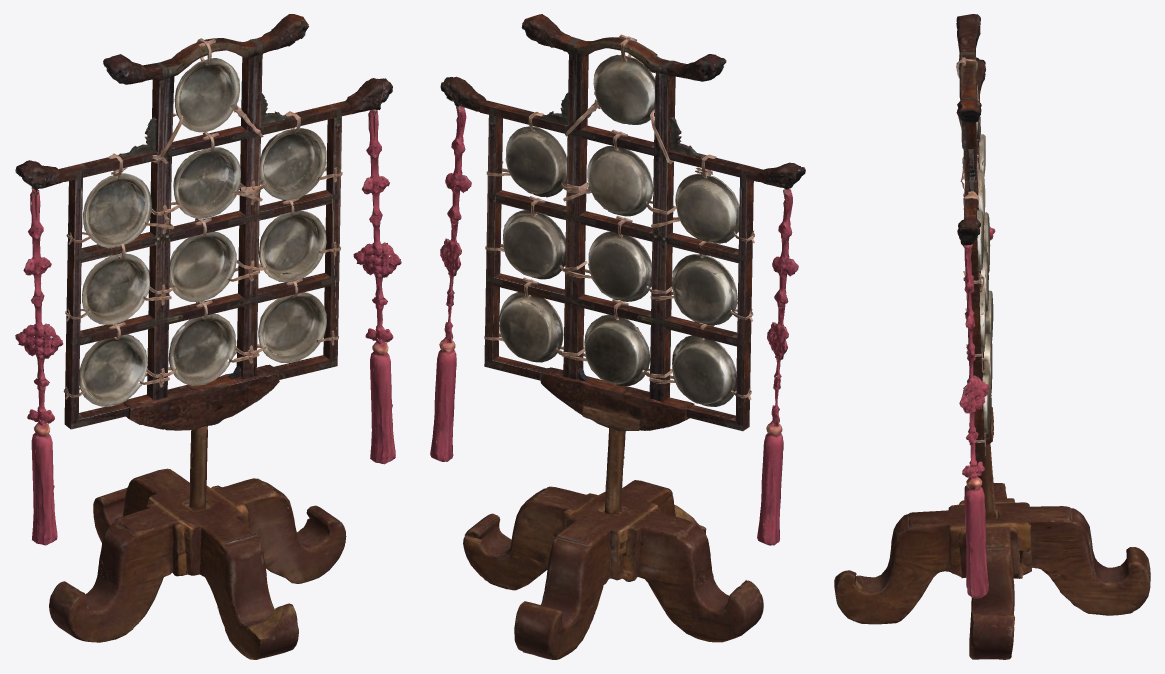
Rendered from unra.glb.
3 views of the same model, side by side, from view 1: azimuth 30°, elevation 25°; view 2: azimuth 150°, elevation 25°; view 3: azimuth 270°, elevation 25° (orthographic). The views are drawn at different scales.
Parts seen in each view (by area): view 1: Jongmyo Jerye_Royal Ancestral Ritual in the Jongmyo Shrine_A; view 2: Jongmyo Jerye_Royal Ancestral Ritual in the Jongmyo Shrine_A; view 3: Jongmyo Jerye_Royal Ancestral Ritual in the Jongmyo Shrine_A.
Part boxes in pixels (bbox=[...]): Jongmyo Jerye_Royal Ancestral Ritual in the Jongmyo Shrine_A: bbox=[15, 14, 401, 659]; Jongmyo Jerye_Royal Ancestral Ritual in the Jongmyo Shrine_A: bbox=[430, 14, 805, 659]; Jongmyo Jerye_Royal Ancestral Ritual in the Jongmyo Shrine_A: bbox=[834, 14, 1150, 659].
Size of the model in its own units: 631 by 940 by 480.
3 materials, 2 textured.
